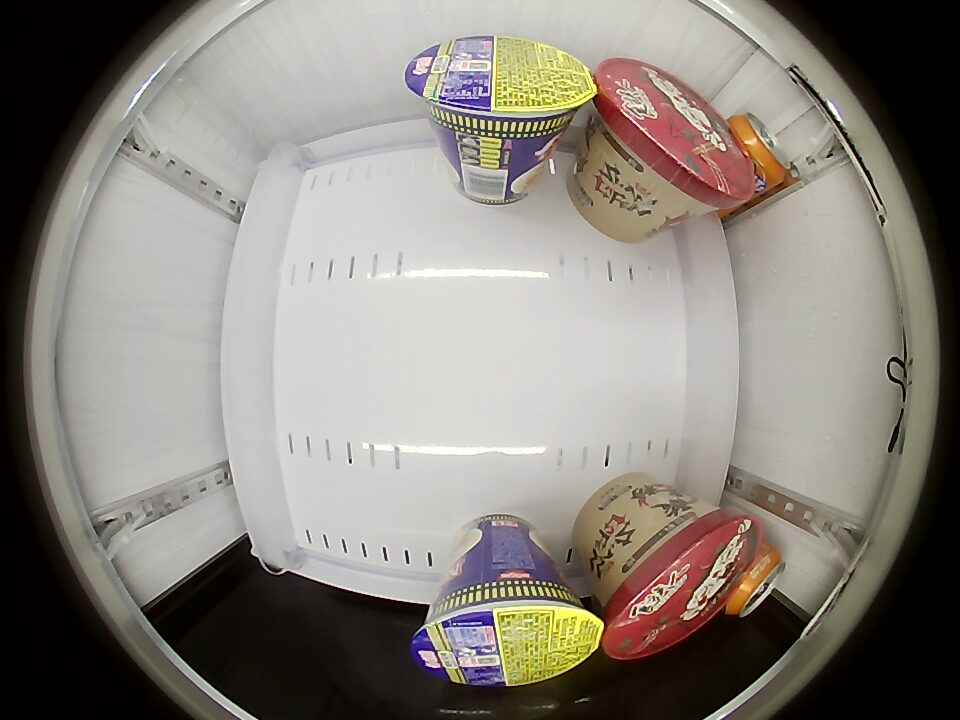fenda: (731, 112, 792, 191), (725, 543, 786, 619)
heweidao: (411, 570, 603, 687), (405, 35, 598, 148)
suanlafen: (591, 57, 751, 212), (600, 507, 762, 660)
